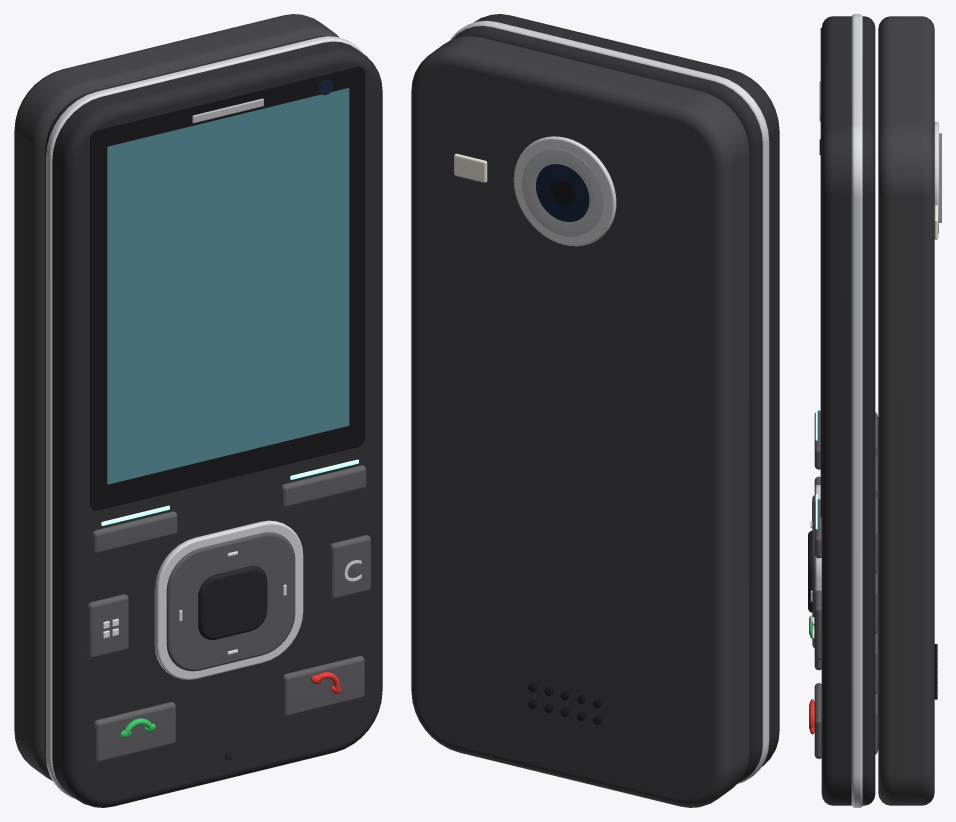
File: phone.glb
3 views of the same model, side by side, from view 1: azimuth 30°, elevation 25°; view 2: azimuth 150°, elevation 25°; view 3: azimuth 270°, elevation 25° (orthographic). The views are drawn at different scales.
Parts seen in each view (by area): view 1: slide, screen, base, screen_window, nav_ring, trim, nav_frame, nav_center, end_key, call_key, clear_key, menu_key (+2 smaller); view 2: base, slide, trim, camera_bump, camera_ring, camera_lens, flash; view 3: base, slide, trim, screen_window, end_key, clear_key, nav_ring, camera_bump, soft_key_r, nav_center, soft_key_l, nav_frame (+2 smaller).
Part boxes in pixels (box(x1,y1,x2,y2)): slide: box(44, 36, 382, 807); screen: box(107, 88, 349, 484); base: box(14, 14, 339, 780); screen_window: box(90, 66, 365, 510); nav_ring: box(166, 532, 295, 671); trim: box(46, 36, 363, 798); nav_frame: box(154, 520, 303, 679); nav_center: box(198, 565, 267, 639); end_key: box(282, 656, 364, 716); call_key: box(93, 702, 175, 762); clear_key: box(329, 535, 370, 599); menu_key: box(87, 594, 128, 658); base: box(411, 36, 749, 807); slide: box(452, 14, 779, 781); trim: box(450, 20, 769, 783); camera_bump: box(513, 136, 616, 246); camera_ring: box(521, 149, 603, 236); camera_lens: box(536, 164, 589, 221); flash: box(454, 153, 487, 182); base: box(878, 16, 934, 805); slide: box(821, 16, 875, 805); trim: box(851, 14, 862, 807); screen_window: box(820, 28, 821, 517); end_key: box(814, 683, 821, 758); clear_key: box(814, 590, 821, 660); nav_ring: box(812, 495, 815, 647); camera_bump: box(934, 121, 938, 233); soft_key_r: box(814, 499, 821, 558); nav_center: box(808, 531, 812, 612); soft_key_l: box(814, 410, 820, 469); nav_frame: box(815, 485, 821, 591).
Bounding box in the file's own units: 4.96 × 10.36 × 1.85.
